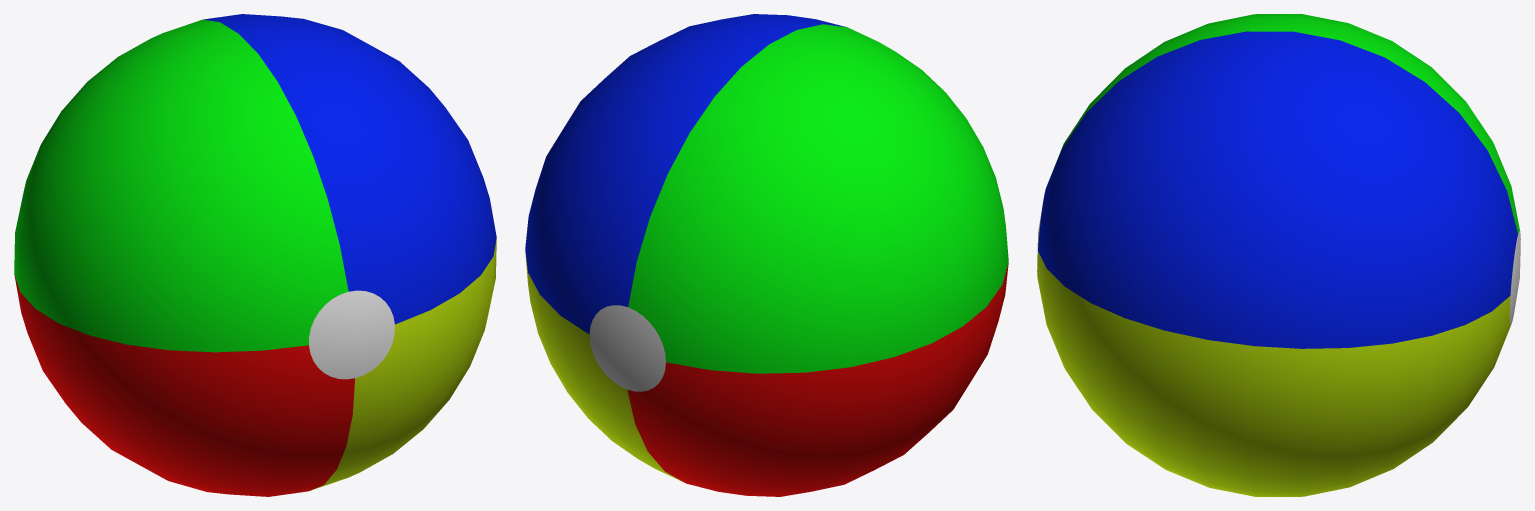
The model's file is bouncing_ball.fbx.
The picture shows the model from 3 angles, left to right: view 1: azimuth 30°, elevation 25°; view 2: azimuth 150°, elevation 25°; view 3: azimuth 270°, elevation 25°; orthographic projection.
Visible parts, largest first — view 1: Sphere; view 2: Sphere; view 3: Sphere.
Part boxes in pixels (x1,y1,x2,y2): Sphere: (14, 14, 496, 496); Sphere: (525, 14, 1008, 496); Sphere: (1037, 14, 1520, 496).
Size of what is drawn, in the model's own units: 199 by 199 by 199.
